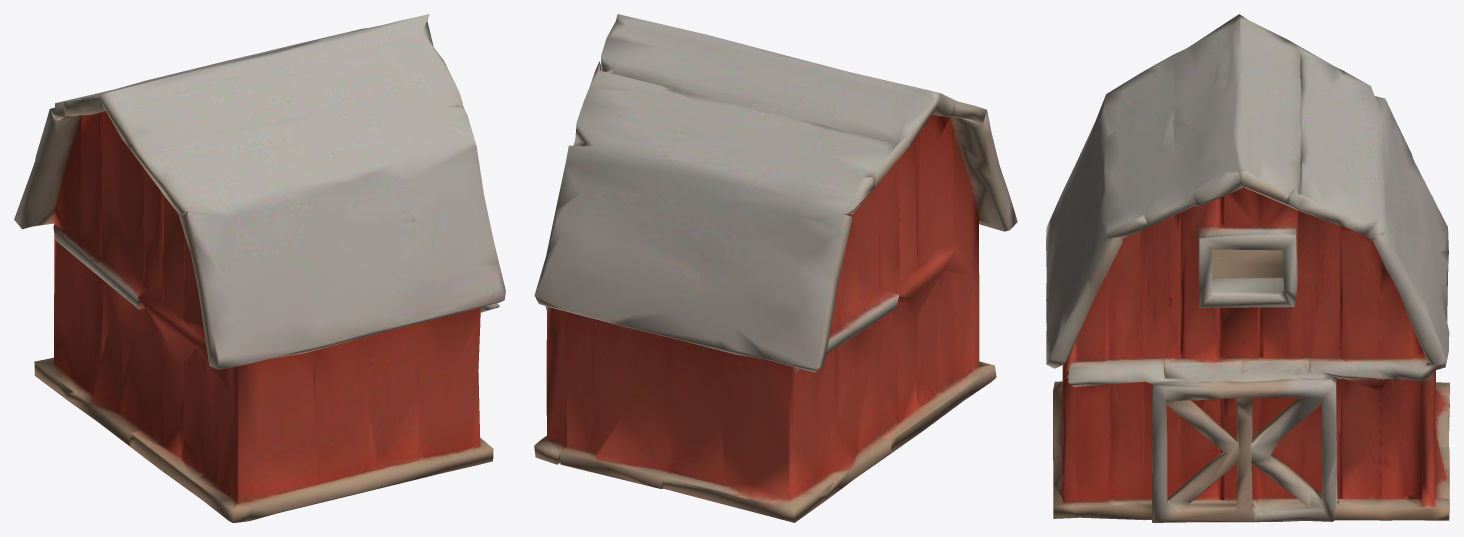
The model's file is barn.glb.
The picture shows the model from 3 angles, left to right: view 1: azimuth 30°, elevation 25°; view 2: azimuth 150°, elevation 25°; view 3: azimuth 270°, elevation 25°; orthographic projection. The views are drawn at different scales.
Visible parts, largest first — view 1: tripo_node_c06382bc-6a78-4d0a-a0ae-fa6c3506e734; view 2: tripo_node_c06382bc-6a78-4d0a-a0ae-fa6c3506e734; view 3: tripo_node_c06382bc-6a78-4d0a-a0ae-fa6c3506e734.
Boxes of the visible parts, bbox=[...] form: tripo_node_c06382bc-6a78-4d0a-a0ae-fa6c3506e734: bbox=[14, 14, 505, 522]; tripo_node_c06382bc-6a78-4d0a-a0ae-fa6c3506e734: bbox=[534, 14, 1017, 522]; tripo_node_c06382bc-6a78-4d0a-a0ae-fa6c3506e734: bbox=[1046, 14, 1449, 522].
Size of the model in its own units: 0.9233 by 0.9939 by 1.
Materials: 1 (1 with a texture image).
